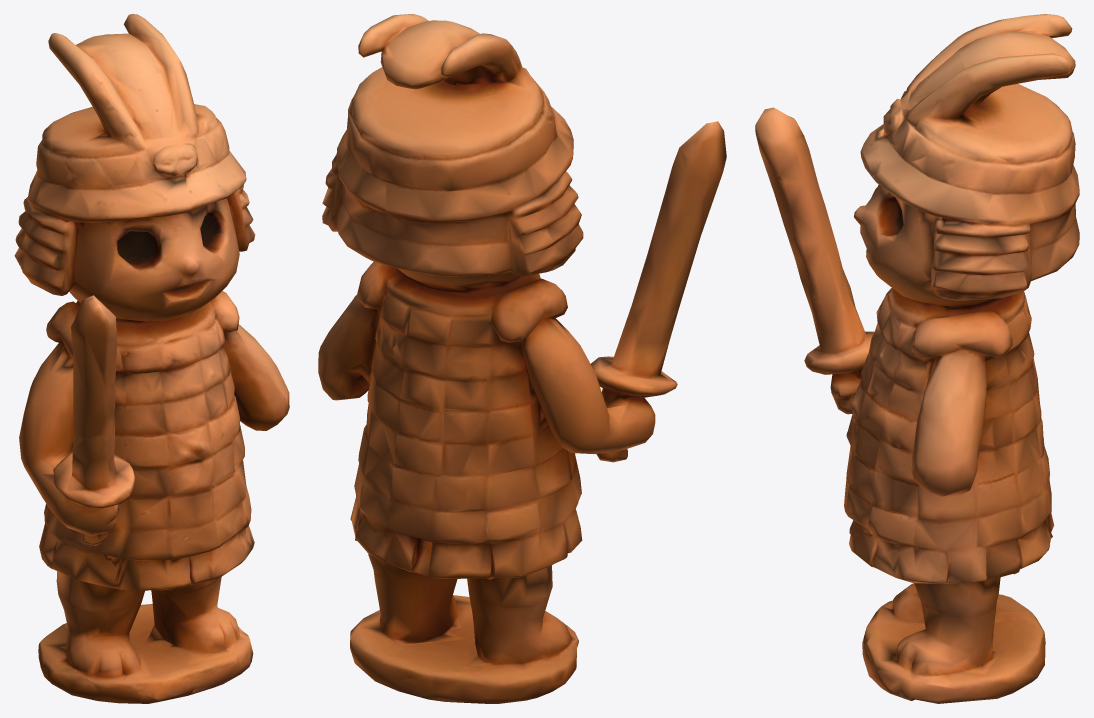
The model's file is anc_haniwa.glb.
The picture shows the model from 3 angles, left to right: view 1: azimuth 30°, elevation 25°; view 2: azimuth 150°, elevation 25°; view 3: azimuth 270°, elevation 25°; orthographic projection. The views are drawn at different scales.
Parts seen in each view (by area): view 1: tripo_node_d4bfdc85-d6f3-4be8-b7d6-d706c8a56fc8; view 2: tripo_node_d4bfdc85-d6f3-4be8-b7d6-d706c8a56fc8; view 3: tripo_node_d4bfdc85-d6f3-4be8-b7d6-d706c8a56fc8.
Boxes of the visible parts, bbox=[...] form: tripo_node_d4bfdc85-d6f3-4be8-b7d6-d706c8a56fc8: bbox=[14, 14, 289, 703]; tripo_node_d4bfdc85-d6f3-4be8-b7d6-d706c8a56fc8: bbox=[318, 14, 726, 703]; tripo_node_d4bfdc85-d6f3-4be8-b7d6-d706c8a56fc8: bbox=[755, 14, 1079, 703].
Bounding box in the file's own units: 0.4962 × 0.9993 × 0.4697.
1 material, 1 textured.
